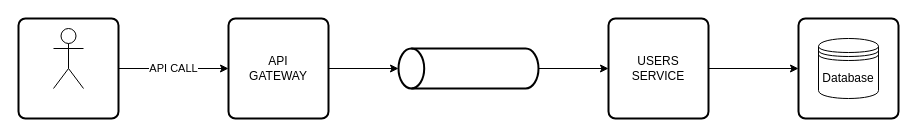
This 916x136 diagram has some shape labels left out. The shapes that lost their labels are listed below. From the top down, each one's centre as x and y in pixels, then its label:
(68,58): USER
(468,68): Kafka
